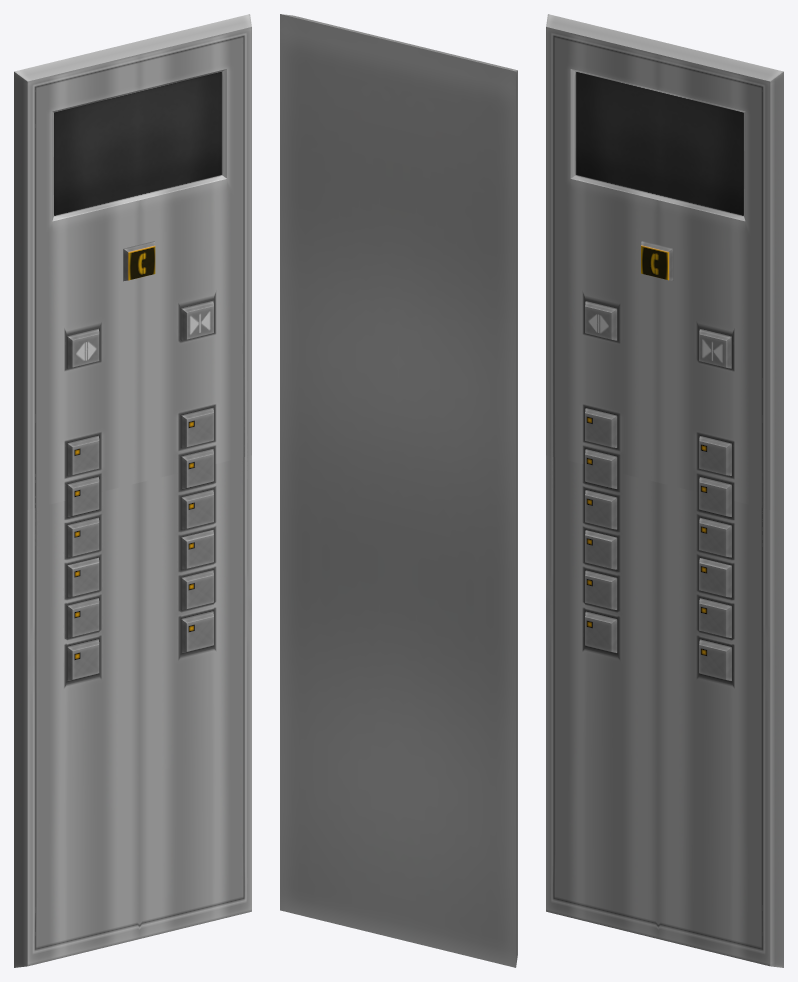
The model's file is sb_obj_ModernCity055_elevator_switch_a.fbx.
3 renders of one model, left to right at view 1: azimuth 30°, elevation 25°; view 2: azimuth 150°, elevation 25°; view 3: azimuth 330°, elevation 25°, orthographic.
Parts seen in each view (by area): view 1: sb_obj_ModernCity055_elevator_switch_a; view 2: sb_obj_ModernCity055_elevator_switch_a; view 3: sb_obj_ModernCity055_elevator_switch_a.
Part boxes in pixels (x1,y1,x2,y2): sb_obj_ModernCity055_elevator_switch_a: (14,14,251,967); sb_obj_ModernCity055_elevator_switch_a: (280,14,517,967); sb_obj_ModernCity055_elevator_switch_a: (546,14,783,967).
Bounding box in the file's own units: 0.1679 × 0.6096 × 0.0133.
Materials: 1 (1 with a texture image).
